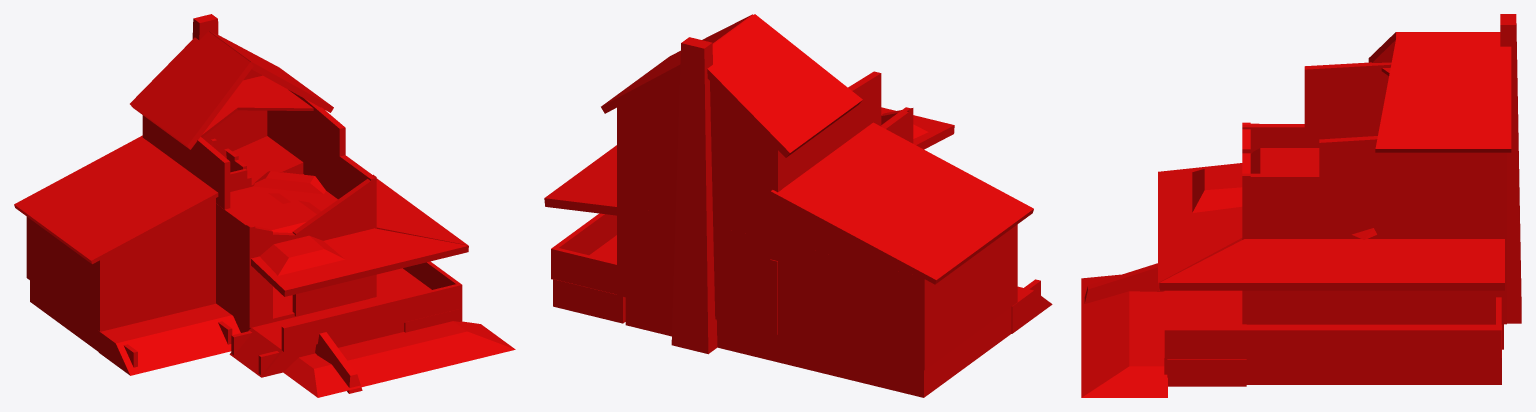
The model's file is SM_Bld_House_Burnt_01_Collision.fbx.
3 renders of one model, left to right at view 1: azimuth 30°, elevation 25°; view 2: azimuth 150°, elevation 25°; view 3: azimuth 270°, elevation 25°, orthographic. The views are drawn at different scales.
Visible parts, largest first — view 1: SM_Bld_House_Burnt_01_Collision; view 2: SM_Bld_House_Burnt_01_Collision; view 3: SM_Bld_House_Burnt_01_Collision.
Part boxes in pixels (left/top/right/bottom): SM_Bld_House_Burnt_01_Collision: left=14, top=14, right=515, bottom=397; SM_Bld_House_Burnt_01_Collision: left=544, top=14, right=1052, bottom=397; SM_Bld_House_Burnt_01_Collision: left=1081, top=14, right=1521, bottom=397.
Bounding box in the file's own units: 1415 × 1000 × 1328.
